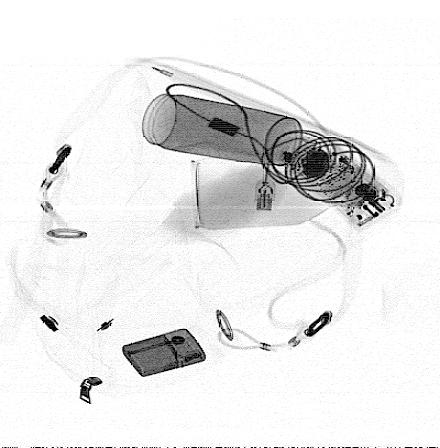Lighter: (122, 328, 207, 378)
